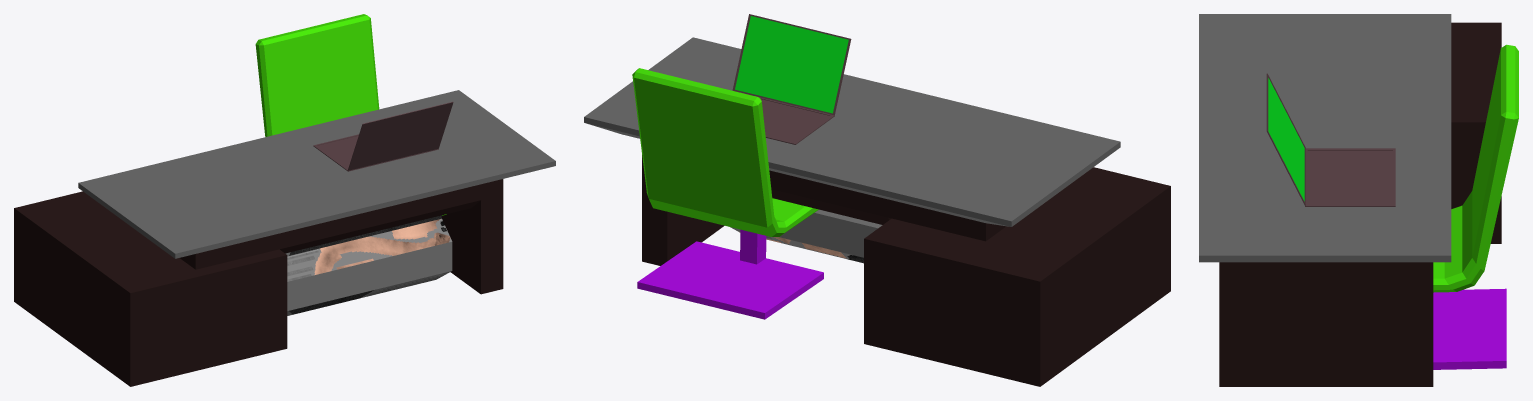
The model's file is sto_predzadnji.fbx.
3 views of the same model, side by side, from view 1: azimuth 30°, elevation 25°; view 2: azimuth 150°, elevation 25°; view 3: azimuth 270°, elevation 25° (orthographic). The views are drawn at different scales.
Visible parts, largest first — view 1: Plane.006; view 2: Plane.006; view 3: Plane.006.
Boxes of the visible parts, bbox=[...] form: Plane.006: bbox=[14, 14, 555, 386]; Plane.006: bbox=[584, 14, 1170, 386]; Plane.006: bbox=[1199, 14, 1518, 386].
Size of the model in its own units: 380 by 170 by 190.
